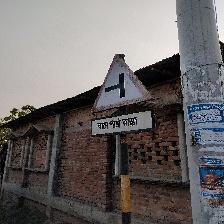Side-road-left: (90, 54, 155, 137)
